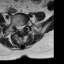CCS_normal: (19, 24, 21, 32)
LFS_stenosis: (24, 22, 26, 28)
LLS_normal: (22, 23, 23, 30)
RFS_normal: (14, 24, 16, 30)
RLS_normal: (16, 24, 19, 32)
